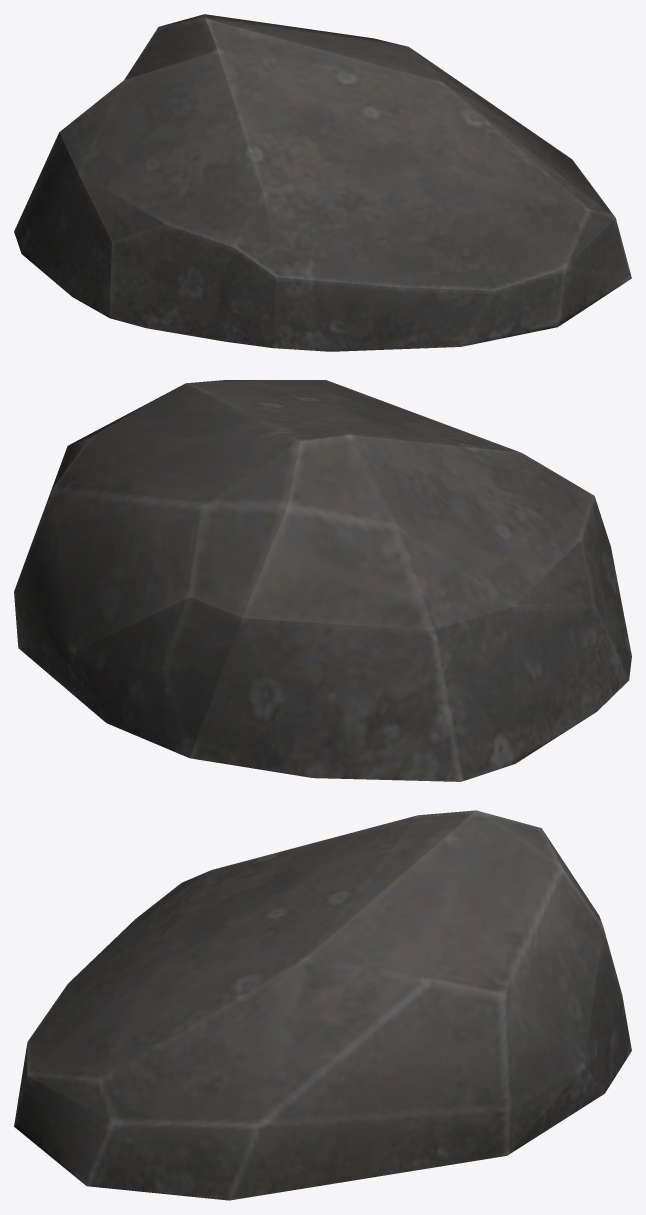
The model's file is riveredge_rocks_small001.glb.
3 views of the same model, one above another, from view 1: azimuth 30°, elevation 25°; view 2: azimuth 150°, elevation 25°; view 3: azimuth 270°, elevation 25° (orthographic). The views are drawn at different scales.
Parts seen in each view (by area): view 1: models\props_rock\riveredge_rocks_small001.vmdl_c.riveredge_; view 2: models\props_rock\riveredge_rocks_small001.vmdl_c.riveredge_; view 3: models\props_rock\riveredge_rocks_small001.vmdl_c.riveredge_.
Boxes of the visible parts, x1,y1,x2,y2 form: models\props_rock\riveredge_rocks_small001.vmdl_c.riveredge_: (14,14,631,351); models\props_rock\riveredge_rocks_small001.vmdl_c.riveredge_: (14,380,631,781); models\props_rock\riveredge_rocks_small001.vmdl_c.riveredge_: (14,810,631,1200).
Size of the model in its own units: 3.23 by 1.33 by 3.23.
Materials: 1 (1 with a texture image).
